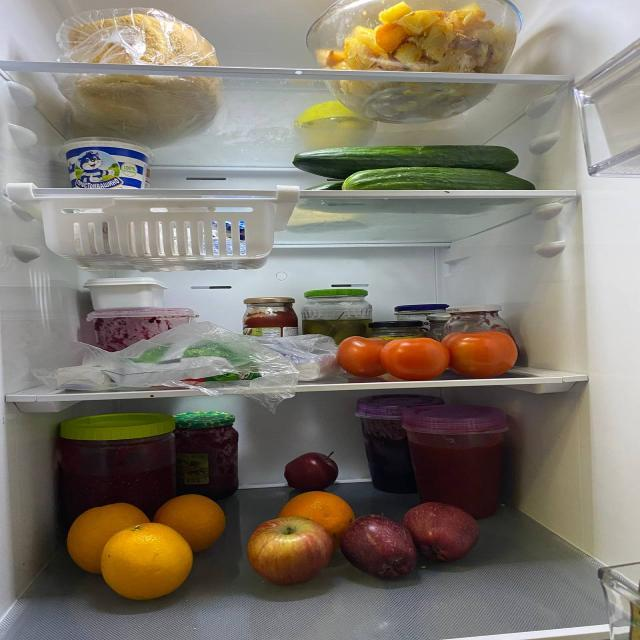Apple: (244, 519, 334, 586), (334, 515, 416, 576), (399, 500, 482, 558), (286, 450, 342, 486)
Cucumber: (288, 145, 518, 171), (340, 170, 544, 196), (308, 178, 350, 192)
Orange: (96, 523, 196, 603), (68, 503, 148, 574), (154, 494, 226, 551), (278, 494, 356, 534)
Tomato: (442, 331, 522, 374), (378, 338, 446, 376), (338, 335, 390, 376)
